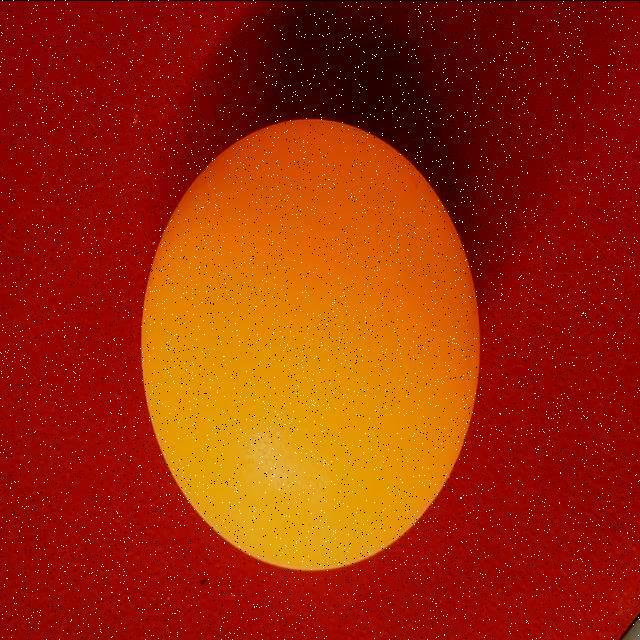ping-pong-ball: (131, 107, 486, 568)
